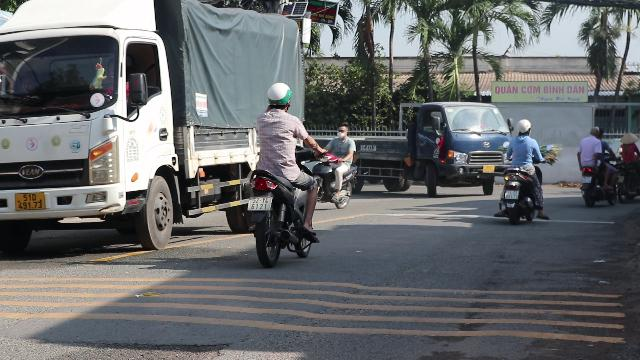helmet: (264, 81, 292, 111), (514, 119, 530, 136)
licenseplate: (248, 196, 272, 210), (504, 190, 518, 198)
motorcyclist: (243, 81, 320, 265), (496, 117, 546, 222), (318, 123, 358, 211)
